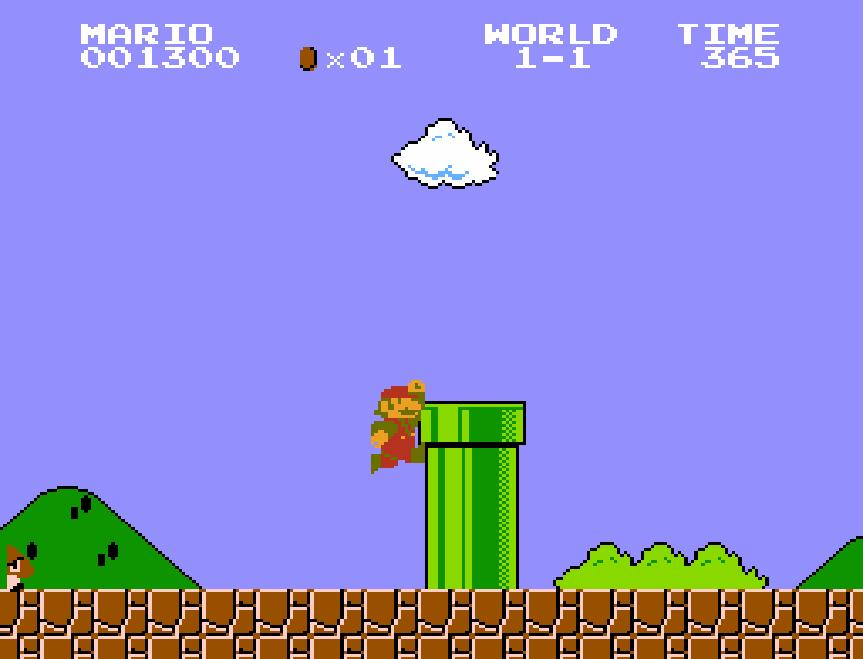big_mario: (368, 378, 426, 476)
